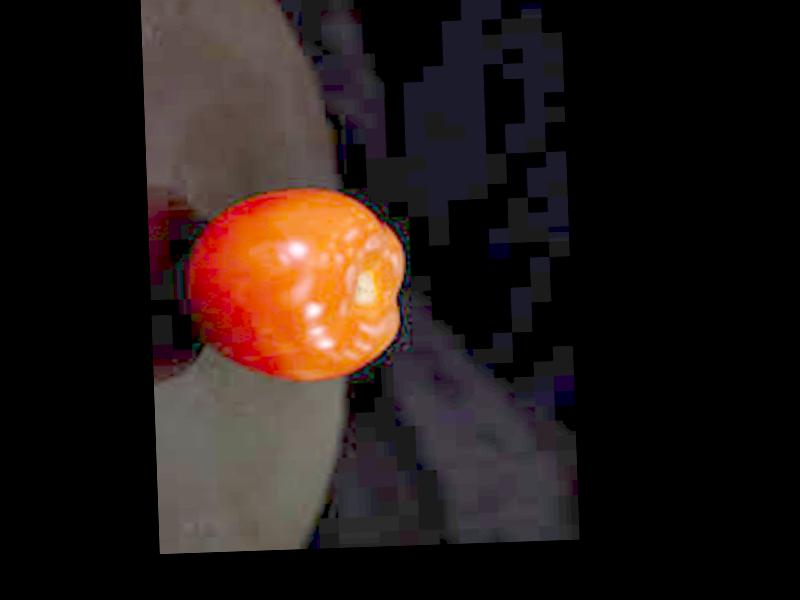Tomato: (184, 182, 411, 386)
